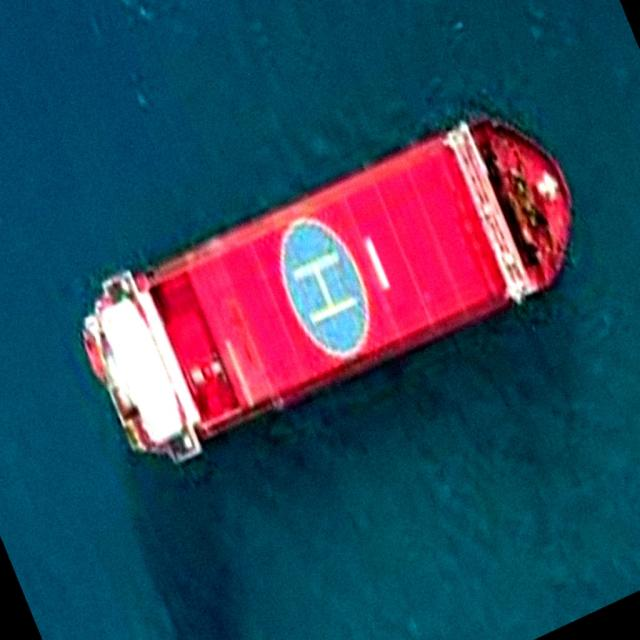helipad: (276, 214, 373, 357)
